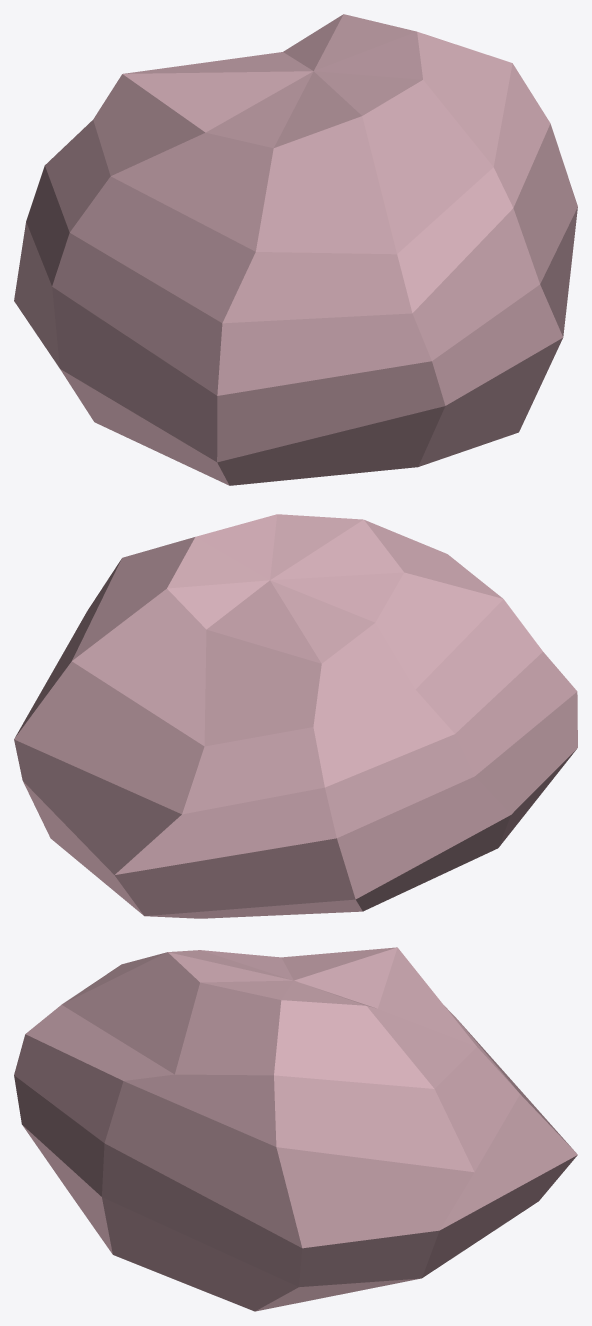
Rendered from Rocks2.fbx.
The picture shows the model from 3 angles, top to bottom: view 1: azimuth 30°, elevation 25°; view 2: azimuth 150°, elevation 25°; view 3: azimuth 270°, elevation 25°; orthographic projection. The views are drawn at different scales.
Parts seen in each view (by area): view 1: pSphere1; view 2: pSphere1; view 3: pSphere1.
Part boxes in pixels (x1,y1,x2,y2): pSphere1: (14, 14, 577, 485); pSphere1: (14, 514, 577, 918); pSphere1: (14, 947, 577, 1311).
Bounding box in the file's own units: 2.62 × 1.71 × 2.99.
